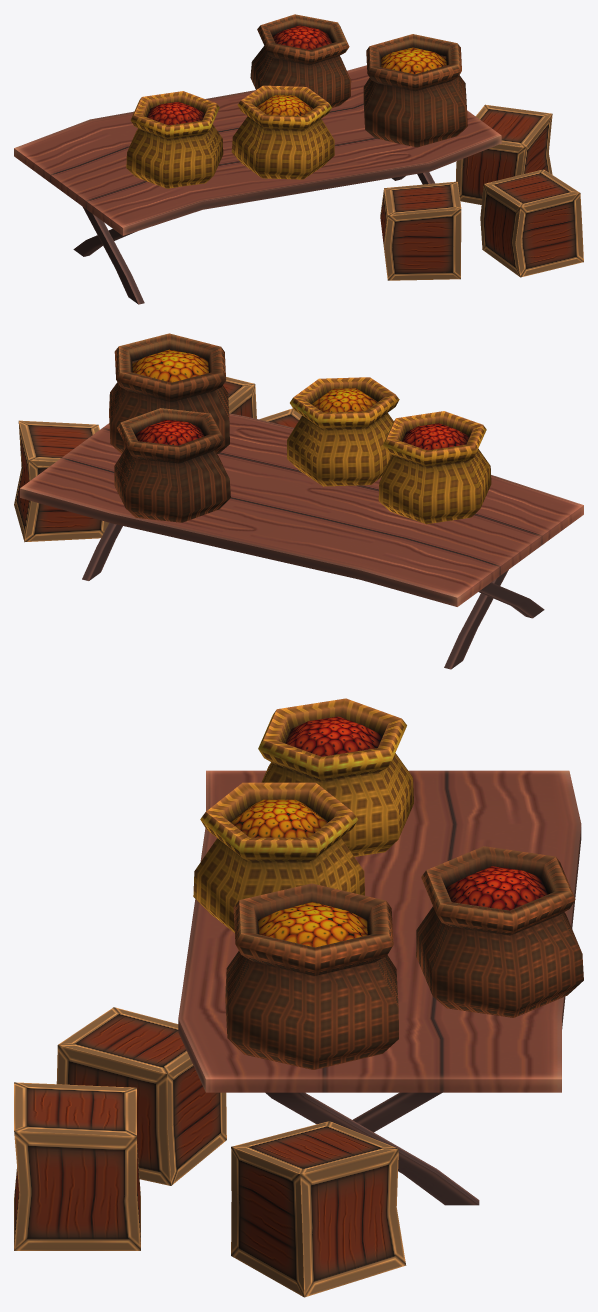
Rendered from Market_03.FBX.
3 views of the same model, one above another, from view 1: azimuth 30°, elevation 25°; view 2: azimuth 150°, elevation 25°; view 3: azimuth 270°, elevation 25° (orthographic). The views are drawn at different scales.
Visible parts, largest first — view 1: Market_03; view 2: Market_03; view 3: Market_03.
Part boxes in pixels (x1,y1,x2,y2): Market_03: (14,14,583,304); Market_03: (14,333,583,669); Market_03: (14,698,583,1297).
Size of the model in its own units: 138 by 46.73 by 88.72.
